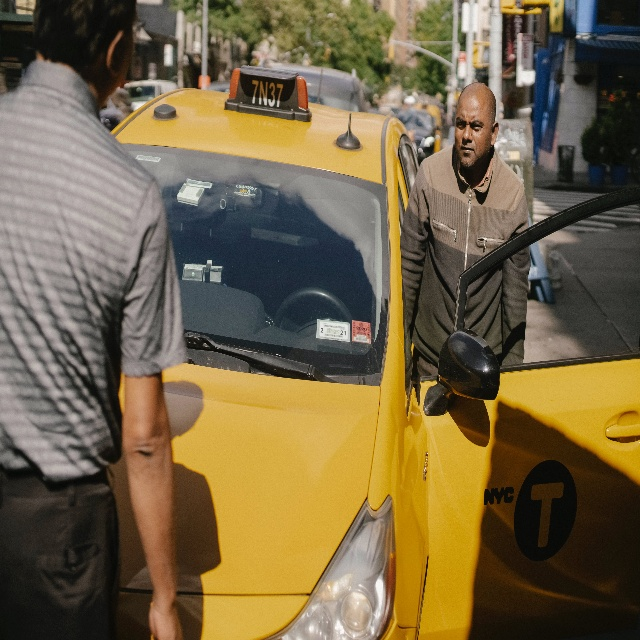Gafas: (130, 18, 146, 43)
Sin_guantes: (148, 597, 183, 640)
